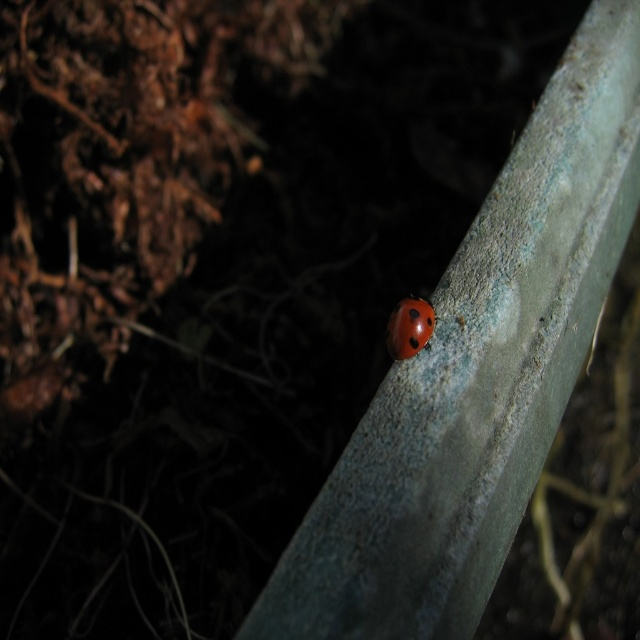Ladybug: (387, 295, 438, 362)
